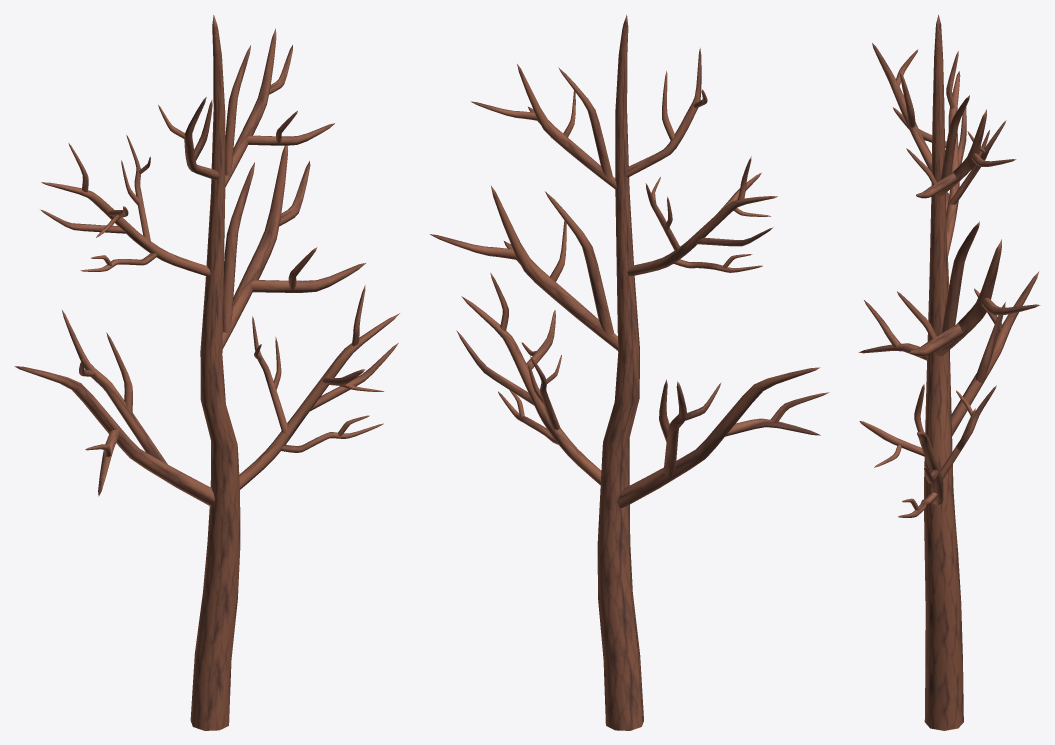
File: DeadTree_2.glb
3 renders of one model, left to right at view 1: azimuth 30°, elevation 25°; view 2: azimuth 150°, elevation 25°; view 3: azimuth 270°, elevation 25°, orthographic.
Parts seen in each view (by area): view 1: DeadTree_2; view 2: DeadTree_2; view 3: DeadTree_2.
Boxes of the visible parts, left/top/right/bottom form: DeadTree_2: left=14, top=15, right=399, bottom=730; DeadTree_2: left=430, top=14, right=829, bottom=730; DeadTree_2: left=858, top=14, right=1040, bottom=730.
Size of the model in its own units: 3.42 by 6.2 by 1.45.
1 material, 1 textured.
